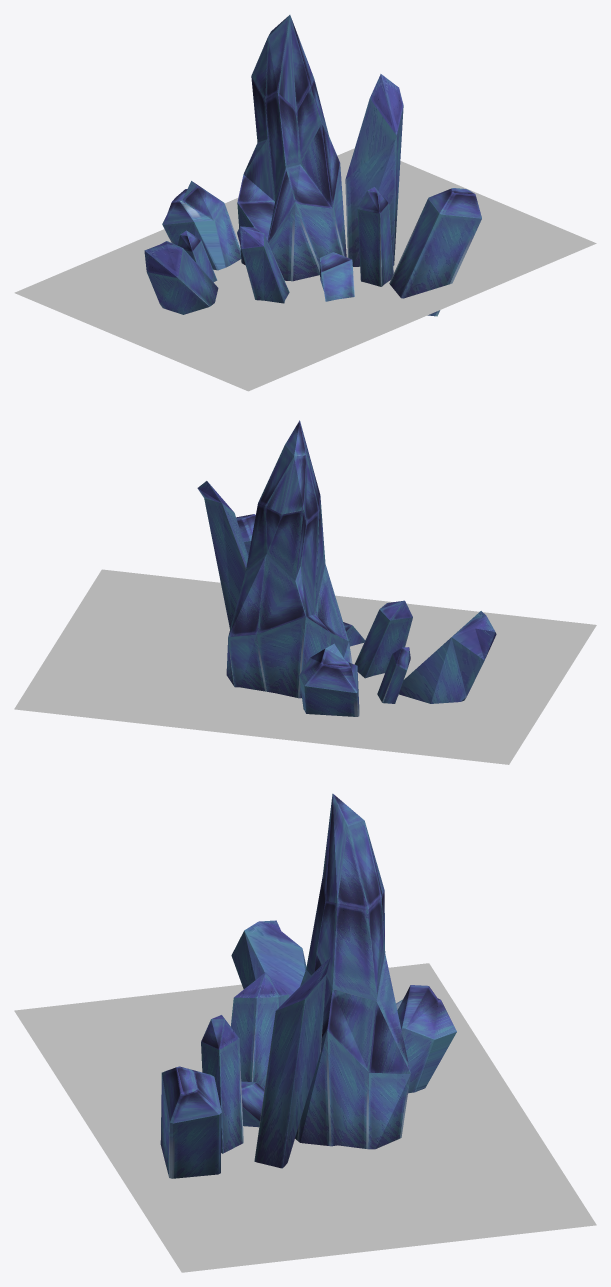
File: crystalssmall01.fbx
3 renders of one model, top to bottom at view 1: azimuth 30°, elevation 25°; view 2: azimuth 150°, elevation 25°; view 3: azimuth 270°, elevation 25°, orthographic. The views are drawn at different scales.
Visible parts, largest first — view 1: Geoset_0, Geoset_2, Geoset_1; view 2: Geoset_0, Geoset_2, Geoset_1; view 3: Geoset_0, Geoset_2, Geoset_1.
Boxes of the visible parts, <box> form: Geoset_0: <box>14,148,596,391</box>; Geoset_2: <box>162,15,481,316</box>; Geoset_1: <box>144,74,403,314</box>; Geoset_0: <box>14,569,596,764</box>; Geoset_2: <box>226,420,410,716</box>; Geoset_1: <box>197,481,496,703</box>; Geoset_0: <box>14,963,596,1272</box>; Geoset_2: <box>160,793,456,1178</box>; Geoset_1: <box>231,920,330,1168</box>.
Size of the model in its own units: 3.07 by 1.73 by 2.44.
1 material, 1 textured.
